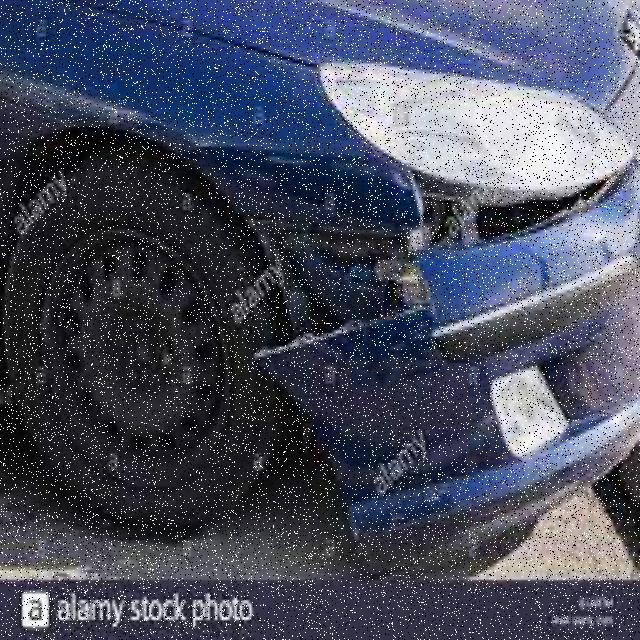front-bumper-dent: (240, 134, 636, 544)
